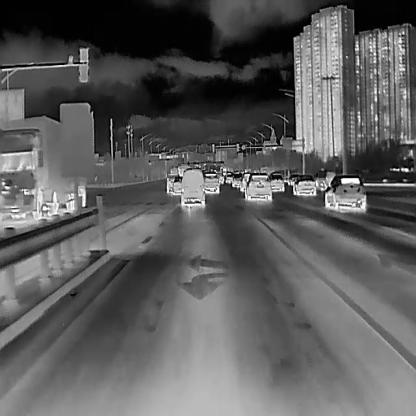car: (324, 172, 366, 212), (180, 168, 205, 208), (245, 172, 272, 200), (293, 173, 315, 196), (202, 170, 218, 193), (268, 172, 283, 193), (172, 175, 182, 194), (232, 172, 242, 188), (166, 174, 174, 192)
truck: (0, 113, 86, 222)
